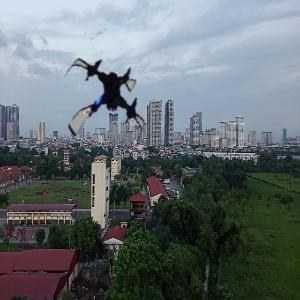drone: (53, 53, 157, 157)
